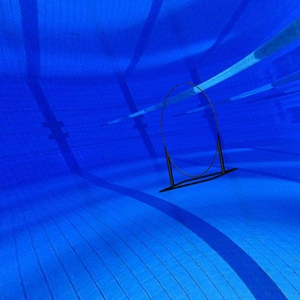circle: (157, 81, 240, 195)
